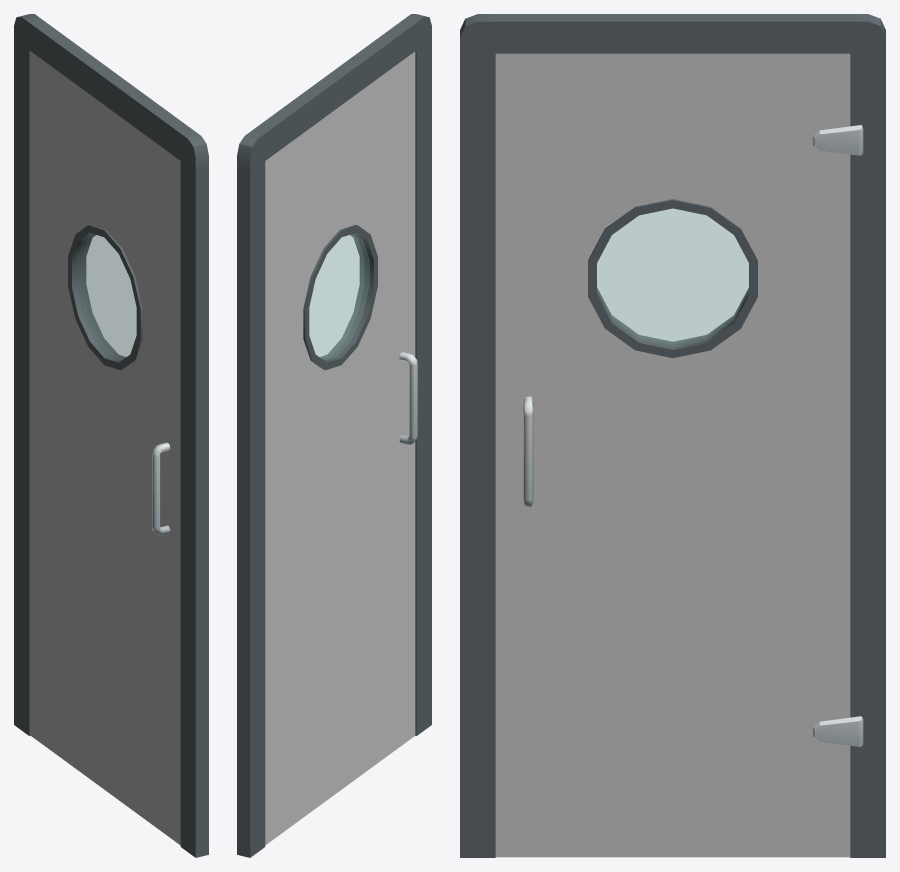
The model's file is deur.fbx.
3 renders of one model, left to right at view 1: azimuth 30°, elevation 25°; view 2: azimuth 150°, elevation 25°; view 3: azimuth 270°, elevation 25°, orthographic. The views are drawn at different scales.
Visible parts, largest first — view 1: polySurface3, polySurface2; view 2: polySurface3, polySurface2; view 3: polySurface3, polySurface2.
Part boxes in pixels (x1,y1,x2,y2): polySurface3: (30,51,180,845); polySurface2: (14,14,208,857); polySurface3: (265,51,417,845); polySurface2: (237,14,431,857); polySurface3: (495,53,863,857); polySurface2: (460,14,885,857).
Size of the model in its own units: 16 by 260 by 120.
3 materials, 1 textured.
